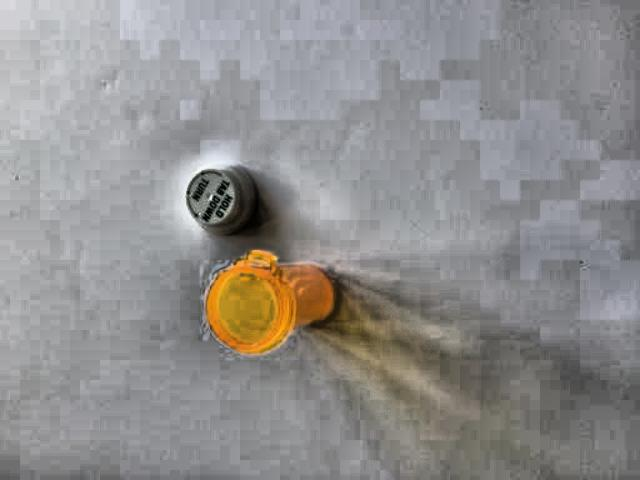Plastic: (184, 245, 346, 362), (173, 147, 268, 238)
